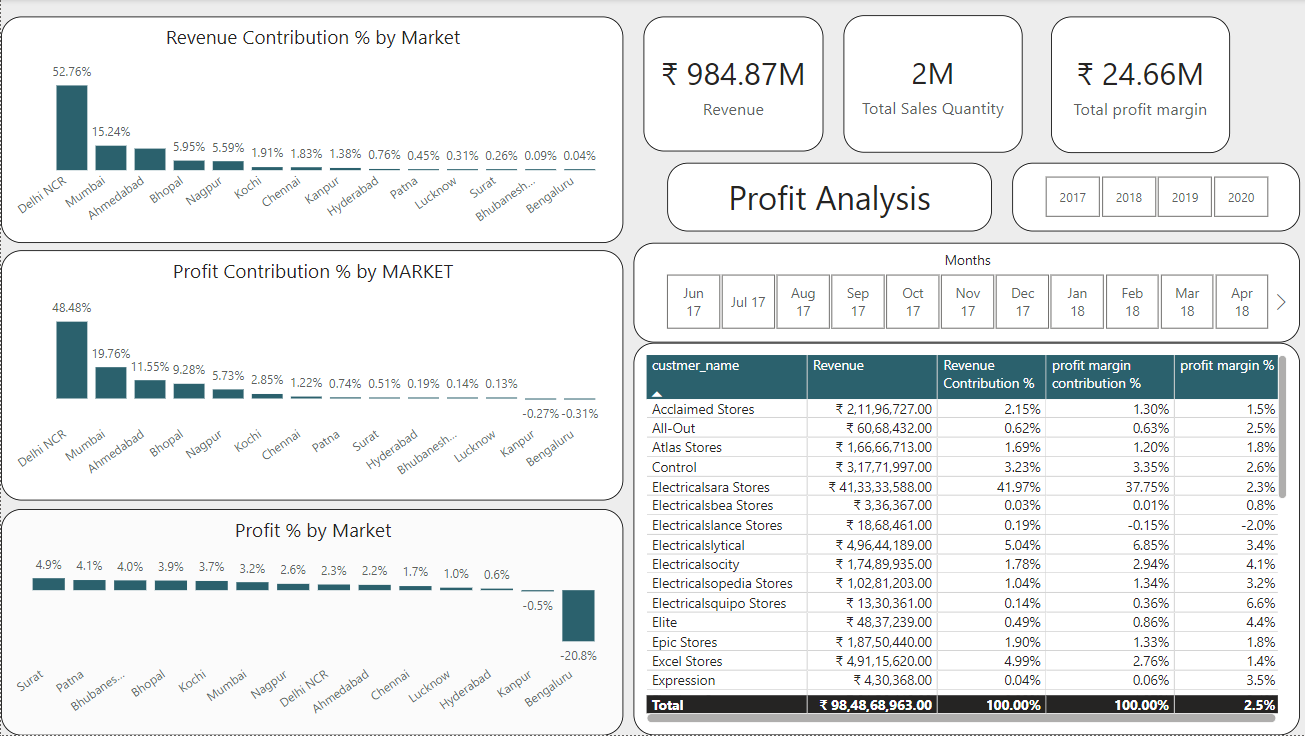

This screenshot's page, from the dashboard's own definition file:
{"tool":"powerbi","page":{"name":"Profit Analysis","canvas":[1280,720],"ordinal":1},"visuals":[{"type":"columnChart","title":"Revenue  Contribution % by Market","fields":{"Category":["Query3.markets_name"],"Y":["Transactions.Revenue Contribution %"]},"box":[0,17.1,609,221.3],"z":0},{"type":"columnChart","title":"Profit Contribution % by MARKET","fields":{"Category":["Query3.markets_name"],"Y":["Customers.profit margin contribution %"]},"box":[0,245.8,609,244.6],"z":1000},{"type":"tableEx","title":"Top 5 Customers","fields":{"Values":["Query5.custmer_name","New measures.Revenue","Transactions.Revenue Contribution %","Customers.profit margin contribution %","Customers.profit margin %"]},"box":[618.8,336.3,651.8,384],"z":2000},{"type":"slicer","fields":{"Values":["Date.year"]},"box":[989.3,160.2,281.3,67.3],"z":3000},{"type":"slicer","title":"Months","fields":{"Values":["Date.cy_date"]},"box":[618.8,238.5,651.8,97.8],"z":4000},{"type":"columnChart","title":"Profit % by Market","fields":{"Category":["Query3.markets_name"],"Y":["Customers.profit margin %"]},"box":[0,498.9,609,221.3],"z":5000},{"type":"card","fields":{"Values":["New measures.Revenue"]},"box":[628.5,17.1,176.1,132.1],"z":6000},{"type":"card","fields":{"Values":["Transactions.Total Sales Quantity"]},"box":[824.2,15.9,174.9,134.5],"z":7000},{"type":"card","fields":{"Values":["Transactions.Total profit margi"]},"box":[1027.2,17.1,174.9,133.3],"z":8000},{"type":"textbox","box":[651.8,160.2,317.9,67.3],"z":9000}]}

Visuals, with their boxes in screenshot pixels (x1, y1, x2, y2), scaled from the page's 1280x720 canvas onto the 1305x736 screenshot:
"Revenue  Contribution % by Market" columnChart: <region>0, 17, 621, 244</region>
"Profit Contribution % by MARKET" columnChart: <region>0, 251, 621, 501</region>
"Top 5 Customers" tableEx: <region>631, 344, 1295, 735</region>
slicer - Date.year: <region>1009, 164, 1295, 233</region>
"Months" slicer: <region>631, 244, 1295, 344</region>
"Profit % by Market" columnChart: <region>0, 510, 621, 735</region>
card - New measures.Revenue: <region>641, 17, 820, 153</region>
card - Transactions.Total Sales Quantity: <region>840, 16, 1019, 154</region>
card - Transactions.Total profit margi: <region>1047, 17, 1226, 154</region>
textbox: <region>665, 164, 989, 233</region>
